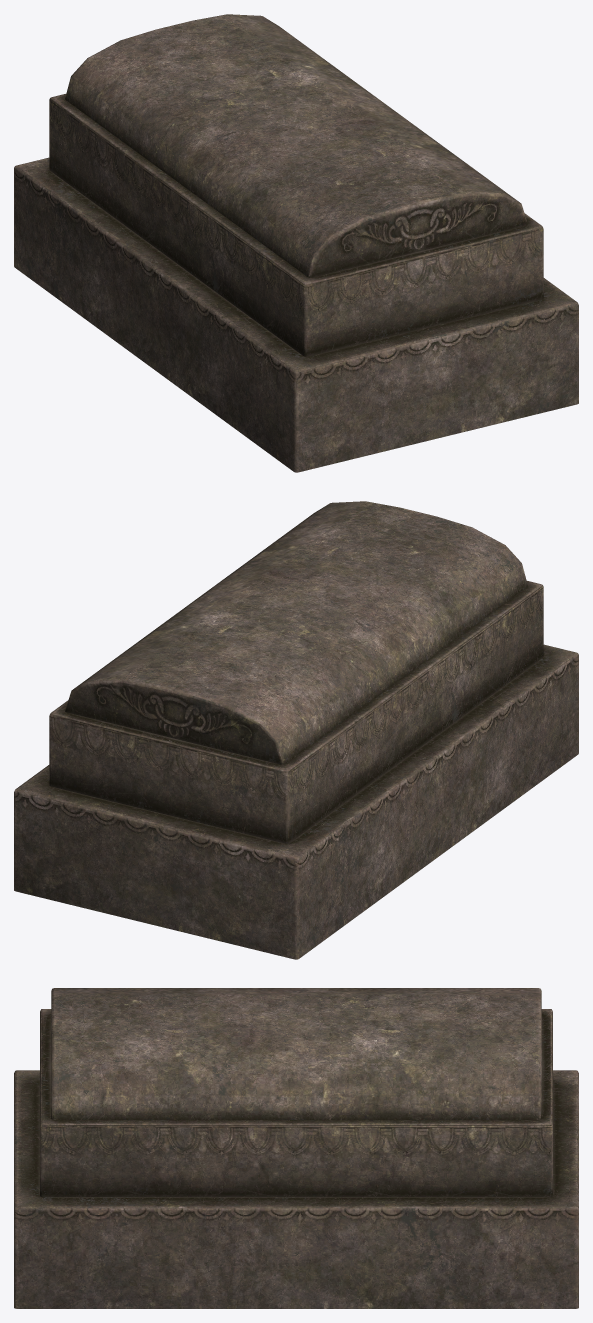
Rendered from SM_tombstone_40.fbx.
The picture shows the model from 3 angles, top to bottom: view 1: azimuth 30°, elevation 25°; view 2: azimuth 150°, elevation 25°; view 3: azimuth 270°, elevation 25°; orthographic projection.
Parts seen in each view (by area): view 1: SM_tombstone_040; view 2: SM_tombstone_040; view 3: SM_tombstone_040.
Part boxes in pixels (x1,y1,x2,y2): SM_tombstone_040: [14, 14, 578, 472]; SM_tombstone_040: [14, 501, 578, 959]; SM_tombstone_040: [14, 988, 578, 1308].
Bounding box in the file's own units: 128 × 95.24 × 221.
